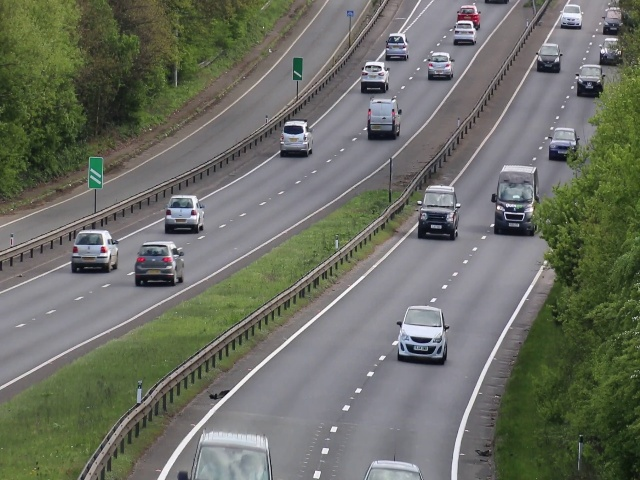car: (398, 303, 447, 368), (494, 169, 536, 238), (69, 229, 121, 276), (132, 240, 185, 286), (419, 188, 459, 239), (163, 195, 206, 234), (366, 97, 400, 142), (279, 120, 315, 158), (359, 60, 391, 92), (426, 49, 457, 81), (577, 61, 601, 98), (550, 127, 574, 164), (534, 44, 563, 72), (385, 32, 410, 59), (561, 6, 581, 30), (600, 36, 616, 62), (455, 24, 475, 44)
